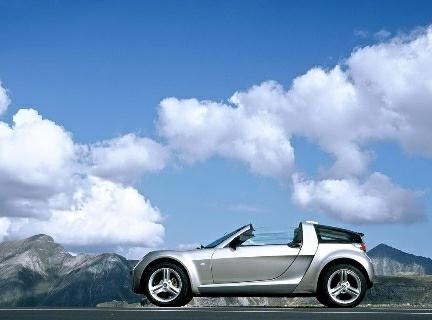smart-roadster: (140, 218, 368, 303)
